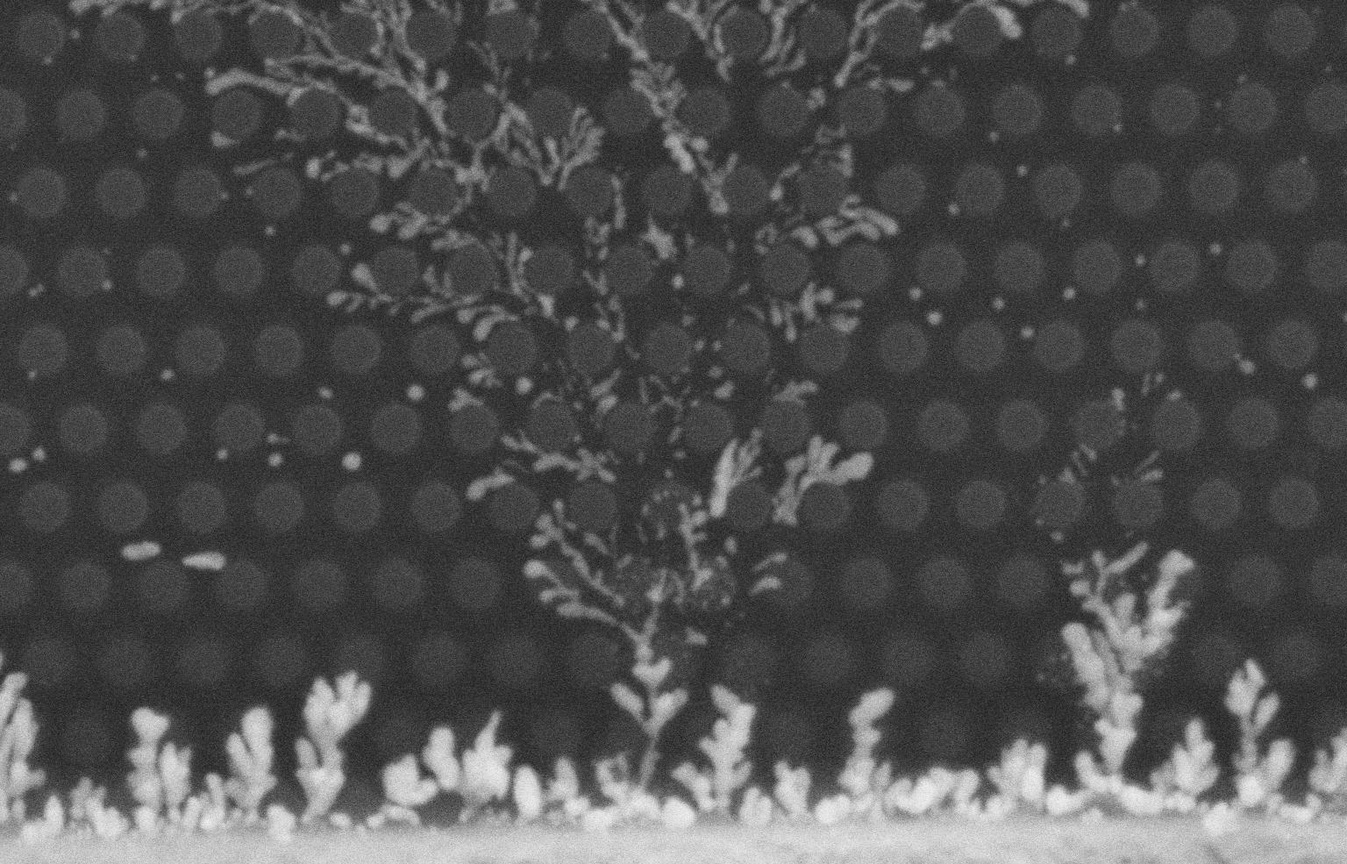Dendrite: (524, 428, 873, 718), (1044, 544, 1218, 814), (583, 0, 741, 215), (618, 30, 724, 212), (273, 54, 470, 145), (419, 223, 580, 331), (609, 575, 688, 789), (1202, 660, 1294, 838), (455, 102, 602, 205), (325, 263, 519, 340), (510, 754, 695, 828), (296, 671, 371, 834), (467, 428, 616, 501), (674, 685, 756, 814), (815, 689, 892, 824), (422, 710, 511, 822), (530, 500, 623, 606), (343, 0, 443, 95), (243, 0, 372, 62), (205, 57, 353, 108), (21, 777, 131, 841), (0, 673, 45, 822), (524, 558, 617, 626), (834, 0, 905, 87), (224, 706, 276, 823), (923, 0, 1042, 51), (1283, 727, 1346, 821), (773, 127, 853, 201), (126, 706, 169, 841), (791, 194, 898, 248), (669, 0, 738, 80), (69, 0, 289, 25), (365, 753, 438, 828), (583, 219, 625, 340), (881, 767, 982, 817), (986, 738, 1047, 818), (758, 0, 809, 76), (370, 200, 463, 240), (344, 98, 410, 154), (374, 0, 424, 72), (158, 743, 191, 831), (176, 774, 227, 830), (773, 760, 811, 824), (745, 301, 799, 342), (385, 138, 432, 180), (353, 152, 420, 179), (738, 786, 783, 825), (512, 766, 543, 820), (798, 281, 835, 323), (232, 154, 294, 179), (641, 218, 677, 260), (770, 299, 800, 342), (462, 353, 500, 385), (583, 218, 612, 258), (267, 803, 296, 842), (754, 223, 789, 253), (589, 369, 621, 400), (609, 174, 626, 230), (774, 381, 817, 402), (183, 551, 224, 571), (303, 150, 334, 176), (866, 76, 915, 92), (122, 541, 160, 561), (448, 388, 481, 411), (826, 311, 859, 334), (749, 572, 780, 595), (595, 390, 617, 422), (612, 181, 626, 230), (740, 39, 766, 62), (754, 554, 783, 572), (211, 131, 240, 147), (274, 128, 305, 142), (638, 377, 652, 406), (1063, 0, 1087, 16), (63, 77, 190, 80), (342, 452, 361, 471), (714, 381, 734, 399), (808, 88, 825, 108), (9, 457, 27, 472), (515, 379, 532, 394), (267, 432, 288, 444), (268, 452, 282, 466), (672, 275, 684, 289), (842, 301, 859, 309), (619, 206, 620, 207), (900, 76, 901, 77), (398, 169, 400, 169), (343, 166, 343, 166)
